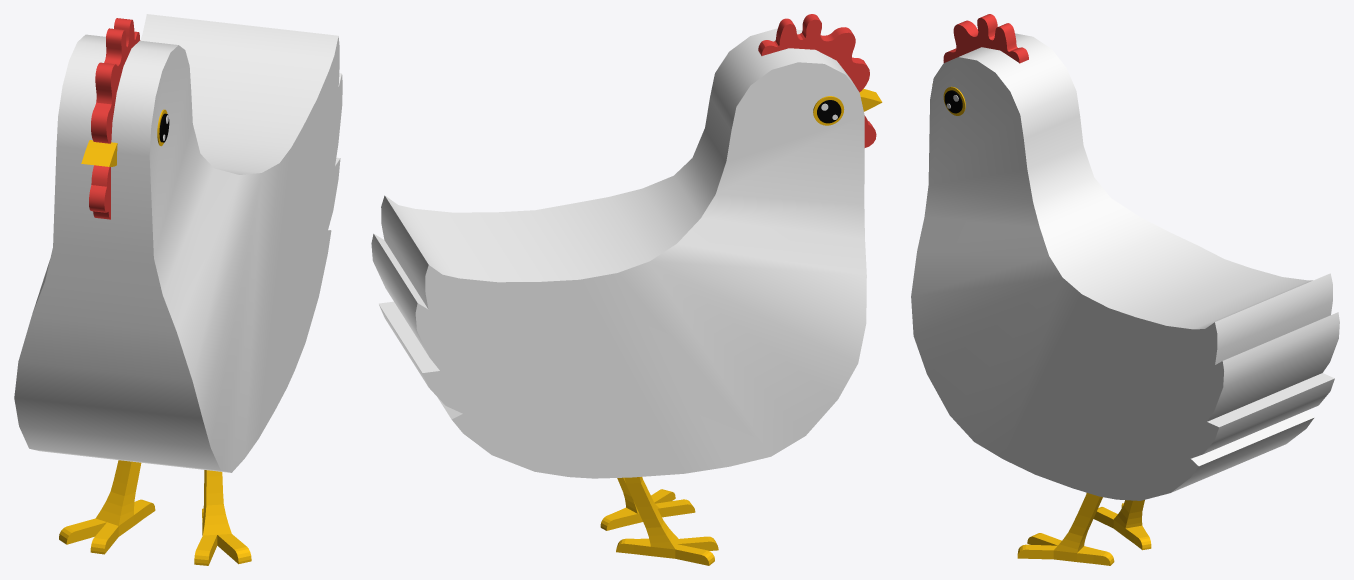
File: rooster.glb
3 renders of one model, left to right at view 1: azimuth 30°, elevation 25°; view 2: azimuth 150°, elevation 25°; view 3: azimuth 270°, elevation 25°, orthographic. The views are drawn at different scales.
Parts seen in each view (by area): view 1: Cube.6276; view 2: Cube.6276; view 3: Cube.6276.
Part boxes in pixels (left/top/right/bottom): Cube.6276: left=14, top=14, right=342, bottom=565; Cube.6276: left=371, top=14, right=882, bottom=565; Cube.6276: left=911, top=14, right=1339, bottom=565.
Size of the model in its own units: 1.81 by 2.23 by 1.81.
1 material, 1 textured.
